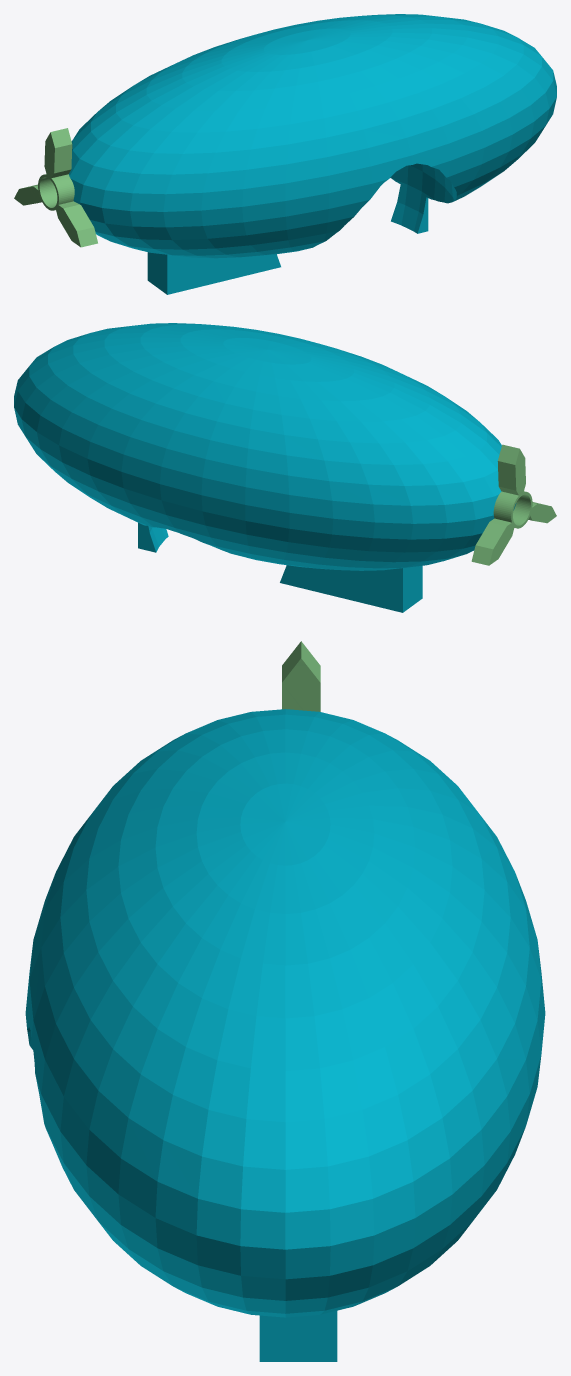
Rendered from blimp.glb.
The picture shows the model from 3 angles, top to bottom: view 1: azimuth 30°, elevation 25°; view 2: azimuth 150°, elevation 25°; view 3: azimuth 270°, elevation 25°; orthographic projection. The views are drawn at different scales.
Parts seen in each view (by area): view 1: Mesh_Mesh_head_geo.001_lambert2SG.001; view 2: Mesh_Mesh_head_geo.001_lambert2SG.001; view 3: Mesh_Mesh_head_geo.001_lambert2SG.001.
Part boxes in pixels (box(x1,y1,x2,y2)): Mesh_Mesh_head_geo.001_lambert2SG.001: box(14, 14, 556, 294); Mesh_Mesh_head_geo.001_lambert2SG.001: box(14, 323, 556, 612); Mesh_Mesh_head_geo.001_lambert2SG.001: box(25, 641, 545, 1361).
Bounding box in the file's own units: 73 × 30 × 33.
